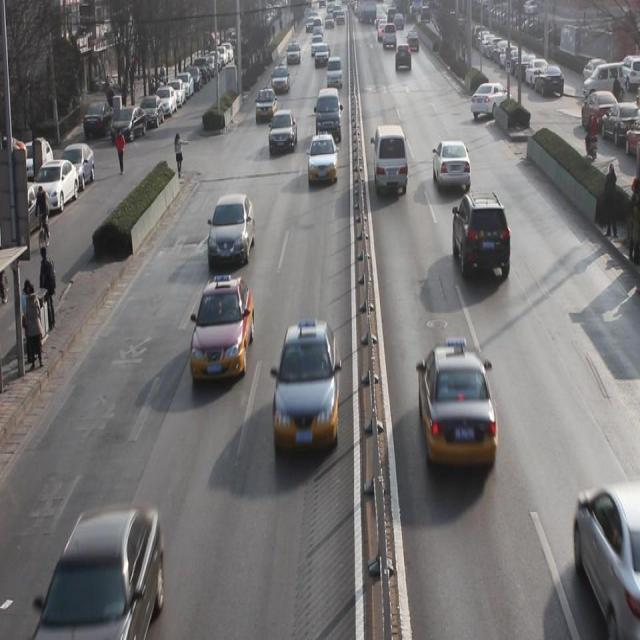car: (33, 509, 165, 640), (416, 345, 497, 474), (574, 484, 640, 622), (275, 325, 342, 452), (194, 275, 255, 382), (453, 194, 512, 284), (208, 193, 257, 268), (433, 139, 471, 193), (308, 134, 338, 186), (269, 109, 298, 155), (255, 85, 278, 124), (271, 64, 290, 97)
truck: (372, 127, 410, 198), (315, 87, 343, 142), (327, 56, 343, 91)
